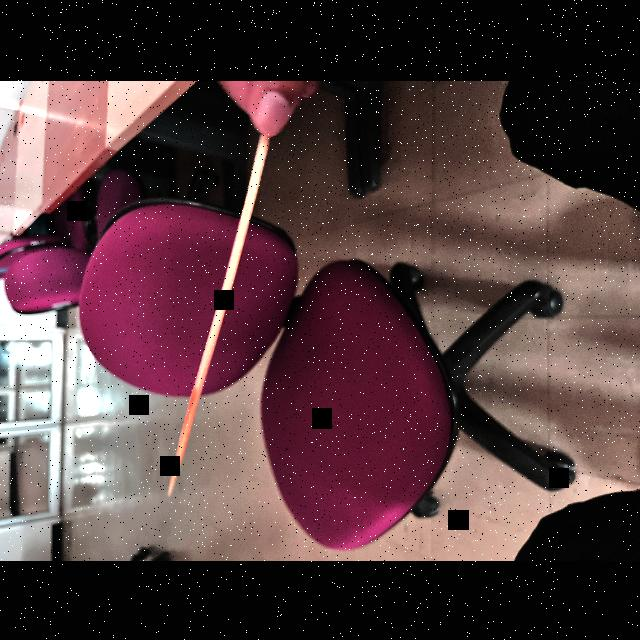stick: (164, 134, 272, 500)
